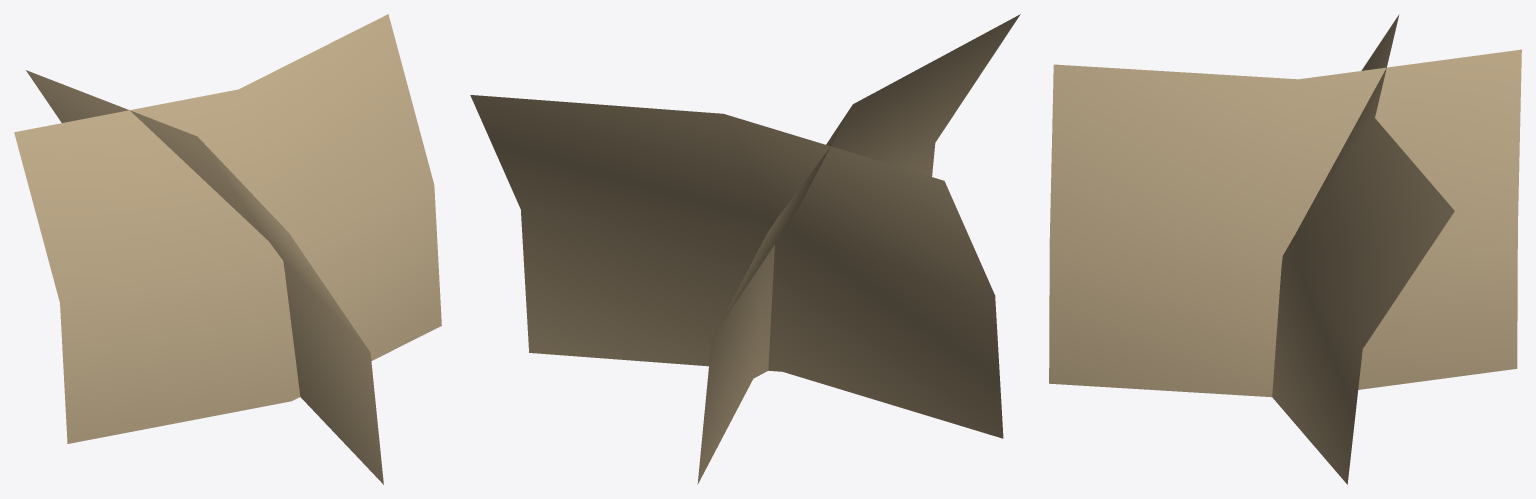
File: GrassPlanes_b_TwoS_03.fbx
3 renders of one model, left to right at view 1: azimuth 30°, elevation 25°; view 2: azimuth 150°, elevation 25°; view 3: azimuth 270°, elevation 25°, orthographic. The views are drawn at different scales.
Parts seen in each view (by area): view 1: GrassPlanes_b_TwoS_03; view 2: GrassPlanes_b_TwoS_03; view 3: GrassPlanes_b_TwoS_03.
Boxes of the visible parts, x1,y1,x2,y2 form: GrassPlanes_b_TwoS_03: (14, 14, 441, 484); GrassPlanes_b_TwoS_03: (470, 14, 1020, 484); GrassPlanes_b_TwoS_03: (1049, 14, 1521, 484).
Size of the model in its own units: 90.09 by 58.41 by 91.36.
